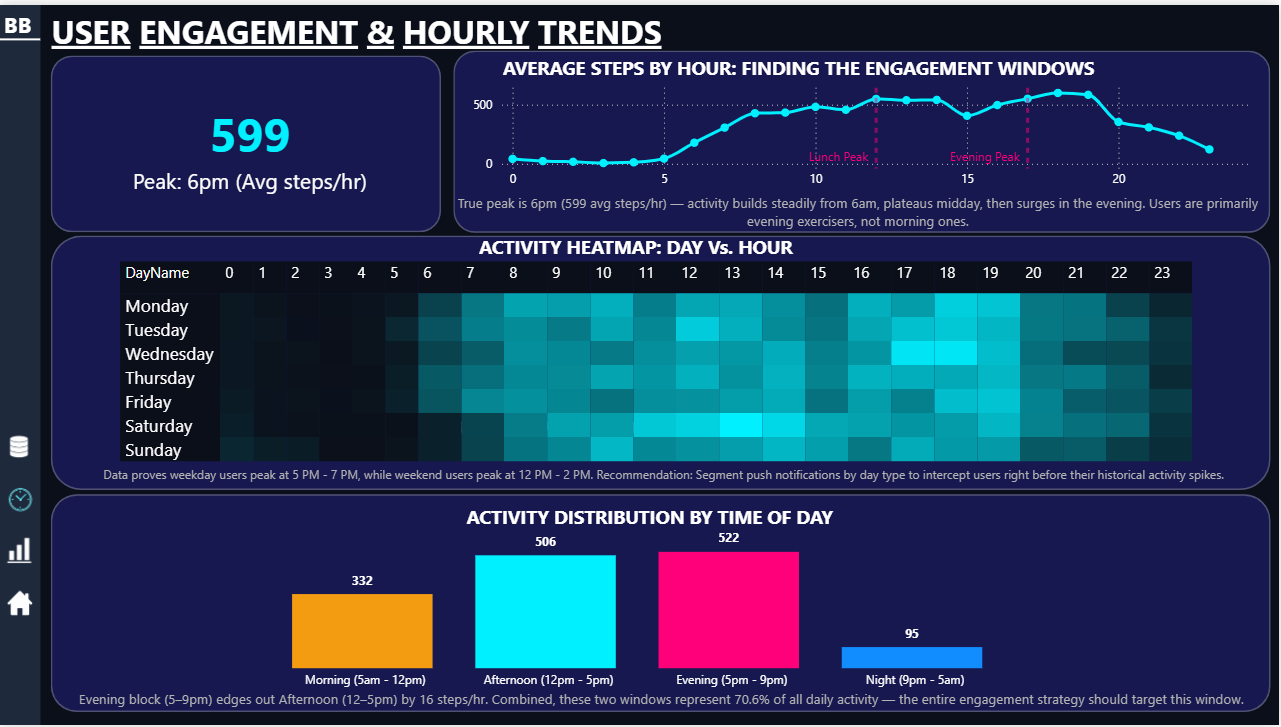

Layout of this report page (visuals, bound fields, positions):
{"tool":"powerbi","page":{"name":"Engagement","canvas":[1280,720],"ordinal":2},"visuals":[{"type":"shape","box":[0,0,41.4,720],"z":0,"group":"g3"},{"type":"textbox","box":[0,0,42.5,47.5],"z":0,"group":"g5"},{"type":"group","id":"g1","title":"Group 5","box":[47,0,1225,708.4],"z":0},{"type":"textbox","title":"Heading","box":[47,0,657.9,53],"z":0,"group":"g1"},{"type":"group","id":"g2","title":"VISUAL 1","box":[453.7,45.4,818.2,183.4],"z":0,"group":"g7"},{"type":"shape","box":[453.7,45.4,818.2,183.4],"z":0,"group":"g2"},{"type":"shape","box":[51.1,49.8,391.3,177.8],"z":0,"group":"g4"},{"type":"shape","box":[51.1,230.1,1220.9,255.6],"z":0,"group":"g6"},{"type":"shape","box":[51.1,489.1,1220.9,218.9],"z":0,"group":"g8"},{"type":"group","id":"g3","title":"Group 7","box":[0,0,41.4,720],"z":1000},{"type":"shape","box":[0,16.2,41.2,36.2],"z":1000,"group":"g5"},{"type":"group","id":"g4","title":"Group 2","box":[51.1,49.8,391.3,177.8],"z":1000,"group":"g7"},{"type":"card","fields":{"Values":["_Total_measures.Peak Hour Steps"]},"box":[72.8,65,357.3,154.5],"z":1000,"group":"g4"},{"type":"lineChart","fields":{"Category":["Hourly.hour_of_day"],"Y":["_Total_measures.Average Hourly Steps"]},"box":[468.2,71,787.1,122.3],"z":1000,"group":"g2"},{"type":"textbox","box":[474.5,223.9,340.7,40.4],"z":1000,"group":"g8"},{"type":"pivotTable","fields":{"Columns":["Hourly.hour_of_day"],"Rows":["MasterCalendar.DayName"],"Values":["_Total_measures.Average Hourly Steps"]},"box":[116.6,256.8,1098.2,208],"z":1000,"group":"g6"},{"type":"textbox","box":[415,404.7,328.3,37.6],"z":1000,"group":"g1"},{"type":"actionButton","box":[0,574,41,49],"z":1000,"group":"g3"},{"type":"group","id":"g5","title":"Group 2","box":[0,0,42.5,52.5],"z":2000},{"type":"textbox","box":[498.3,45.4,728.9,35.4],"z":2000,"group":"g2"},{"type":"group","id":"g6","title":"Group 1","box":[51.1,230.1,1220.9,255.6],"z":2000,"group":"g1"},{"type":"textbox","box":[462.9,494,395.9,35],"z":2000,"group":"g8"},{"type":"actionButton","box":[0,521.7,41.4,48.6],"z":2000,"group":"g3"},{"type":"group","id":"g7","title":"Group 3","box":[51.1,45.4,1220.8,183.4],"z":3000,"group":"g1"},{"type":"actionButton","box":[0,469.4,41.4,48.6],"z":3000,"group":"g3"},{"type":"clusteredColumnChart","fields":{"Category":["Hourly.TimeOfDay"],"Y":["_Total_measures.Average Hourly Steps"]},"box":[214.2,509.7,852.9,183.4],"z":3000,"group":"g8"},{"type":"group","id":"g8","title":"Group 4","box":[51.1,223.9,1220.9,484.1],"z":4000,"group":"g1"},{"type":"actionButton","box":[0,417.1,41.4,48.6],"z":4000,"group":"g3"},{"type":"textbox","box":[86.2,455.3,1156.6,29.9],"z":5000,"group":"g1"},{"type":"textbox","box":[452.7,183.5,810.5,46.9],"z":6000,"group":"g1"},{"type":"textbox","box":[59.9,680.4,1204.8,28],"z":7000,"group":"g1"}]}

Visuals, with their boxes on the page's 1280x720 design canvas (x1, y1, x2, y2). These are canvas units, not pixel positions in the 1281x727 screenshot, which may show the page scaled, cropped or inside an application window:
shape: [x1=0, y1=0, x2=41, y2=720]
textbox: [x1=0, y1=0, x2=42, y2=48]
"Group 5" group: [x1=47, y1=0, x2=1272, y2=708]
"Heading" textbox: [x1=47, y1=0, x2=705, y2=53]
"VISUAL 1" group: [x1=454, y1=45, x2=1272, y2=229]
shape: [x1=454, y1=45, x2=1272, y2=229]
shape: [x1=51, y1=50, x2=442, y2=228]
shape: [x1=51, y1=230, x2=1272, y2=486]
shape: [x1=51, y1=489, x2=1272, y2=708]
"Group 7" group: [x1=0, y1=0, x2=41, y2=720]
shape: [x1=0, y1=16, x2=41, y2=52]
"Group 2" group: [x1=51, y1=50, x2=442, y2=228]
card - _Total_measures.Peak Hour Steps: [x1=73, y1=65, x2=430, y2=220]
lineChart - Hourly.hour_of_day x _Total_measures.Average Hourly Steps: [x1=468, y1=71, x2=1255, y2=193]
textbox: [x1=474, y1=224, x2=815, y2=264]
pivotTable - Hourly.hour_of_day x MasterCalendar.DayName: [x1=117, y1=257, x2=1215, y2=465]
textbox: [x1=415, y1=405, x2=743, y2=442]
actionButton: [x1=0, y1=574, x2=41, y2=623]
"Group 2" group: [x1=0, y1=0, x2=42, y2=52]
textbox: [x1=498, y1=45, x2=1227, y2=81]
"Group 1" group: [x1=51, y1=230, x2=1272, y2=486]
textbox: [x1=463, y1=494, x2=859, y2=529]
actionButton: [x1=0, y1=522, x2=41, y2=570]
"Group 3" group: [x1=51, y1=45, x2=1272, y2=229]
actionButton: [x1=0, y1=469, x2=41, y2=518]
clusteredColumnChart - Hourly.TimeOfDay x _Total_measures.Average Hourly Steps: [x1=214, y1=510, x2=1067, y2=693]
"Group 4" group: [x1=51, y1=224, x2=1272, y2=708]
actionButton: [x1=0, y1=417, x2=41, y2=466]
textbox: [x1=86, y1=455, x2=1243, y2=485]
textbox: [x1=453, y1=184, x2=1263, y2=230]
textbox: [x1=60, y1=680, x2=1265, y2=708]
